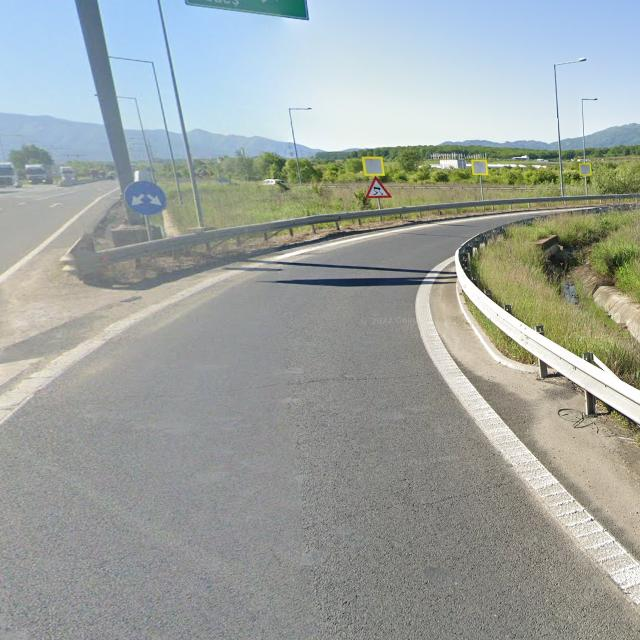mand_pass_left_right: (124, 180, 167, 215)
warn_slippery_road: (365, 176, 392, 198)
